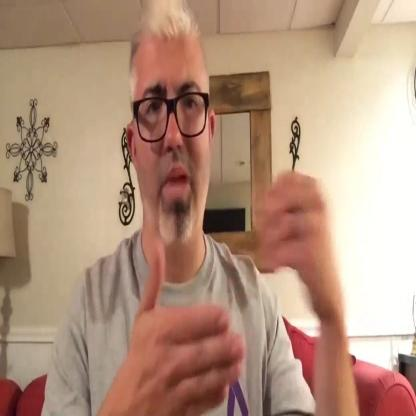Expensive: (125, 174, 339, 408)
